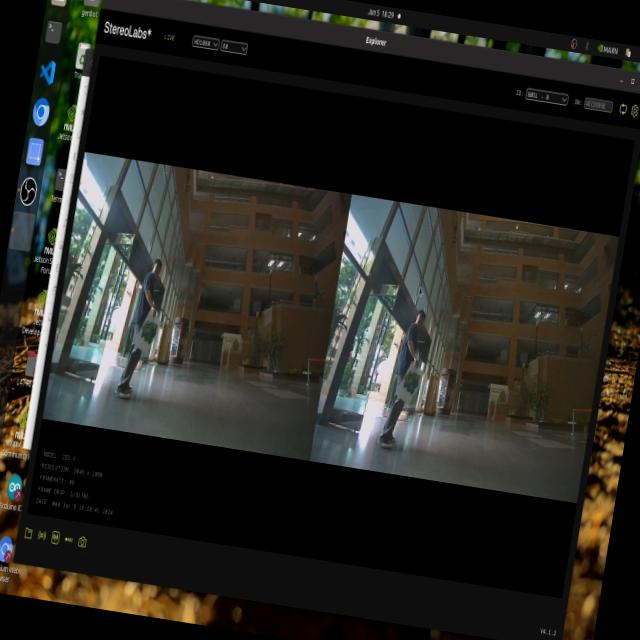green: (132, 318, 172, 360), (398, 368, 426, 403)
